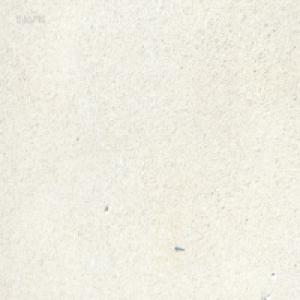Nail: (174, 243, 184, 251)
